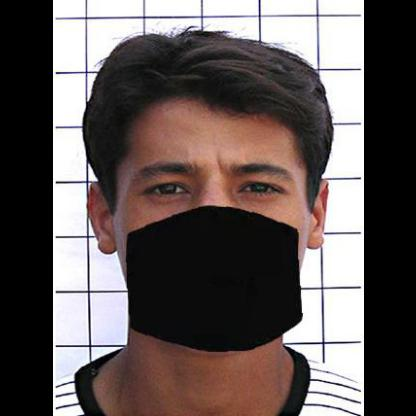Fabric/Cloth Mask: (113, 132, 310, 336)
